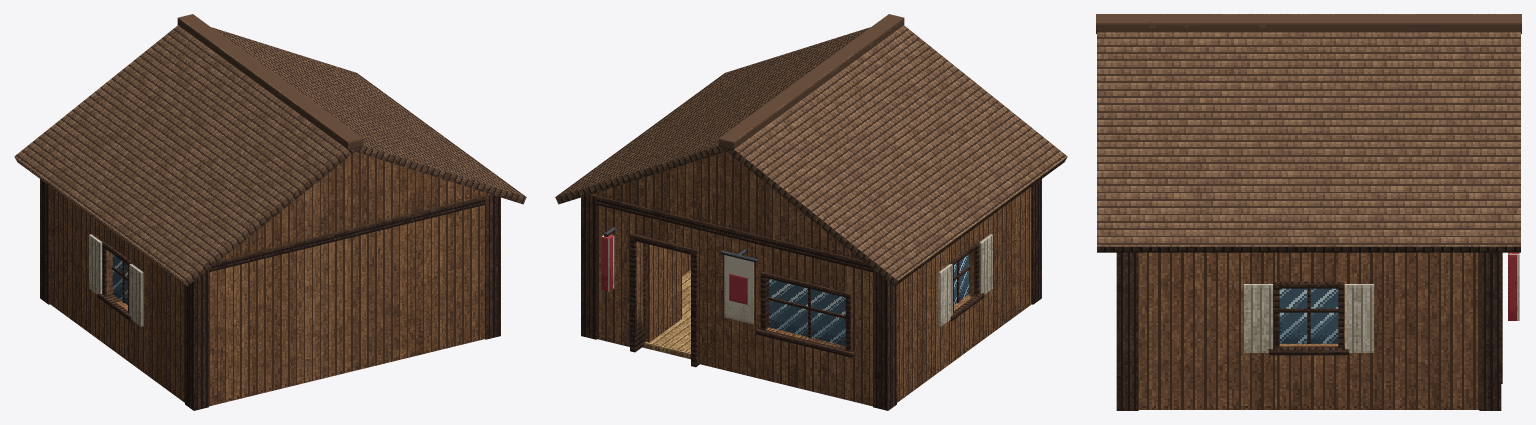
File: barber.glb
3 renders of one model, left to right at view 1: azimuth 30°, elevation 25°; view 2: azimuth 150°, elevation 25°; view 3: azimuth 270°, elevation 25°, orthographic. The views are drawn at different scales.
Parts seen in each view (by area): view 1: barber; view 2: barber; view 3: barber.
Part boxes in pixels (x1,y1,x2,y2): barber: [14, 14, 526, 410]; barber: [555, 14, 1067, 410]; barber: [1096, 14, 1521, 410].
Bounding box in the file's own units: 6.77 × 4.6 × 5.82.
12 materials, 12 textured.
